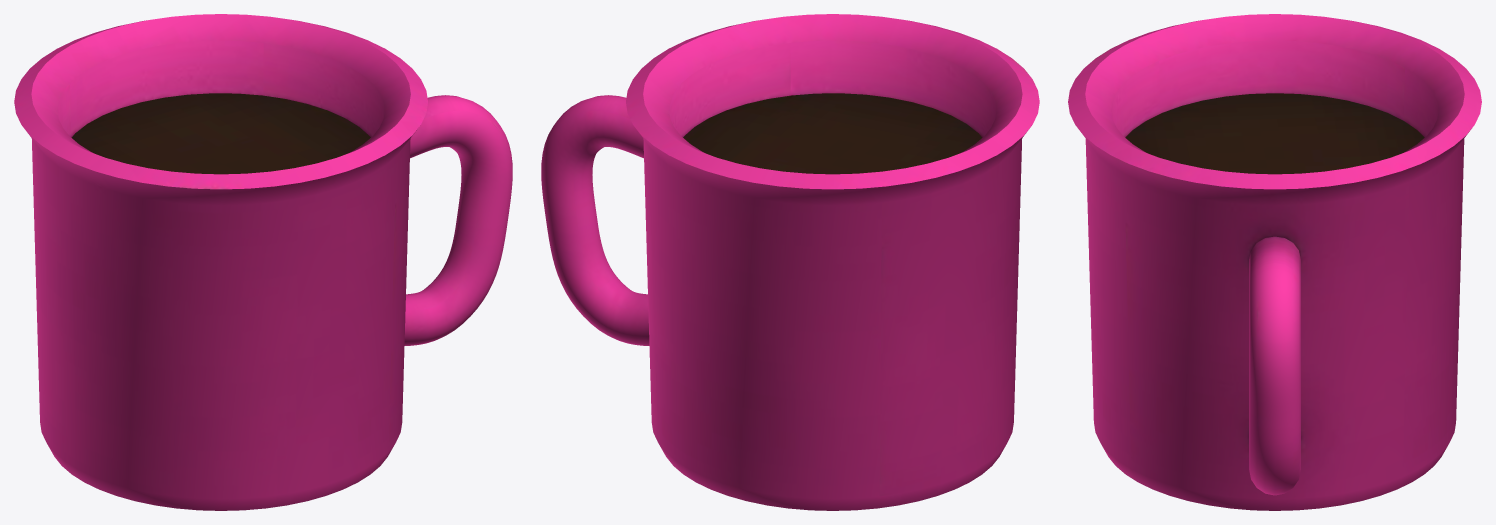
File: mug.glb
3 renders of one model, left to right at view 1: azimuth 30°, elevation 25°; view 2: azimuth 150°, elevation 25°; view 3: azimuth 270°, elevation 25°, orthographic.
Visible parts, largest first — view 1: mug; view 2: mug; view 3: mug.
Boxes of the visible parts, left/top/right/bottom form: mug: left=14, top=14, right=512, bottom=510; mug: left=541, top=14, right=1039, bottom=510; mug: left=1068, top=14, right=1481, bottom=510.
Bounding box in the file's own units: 0.6261 × 0.44 × 0.48.
Materials: 1 (1 with a texture image).
